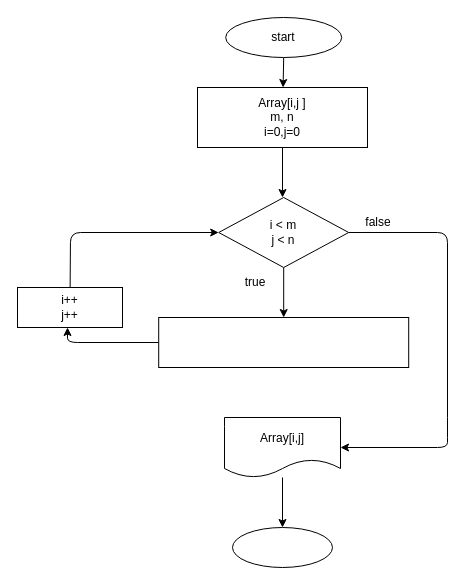
This 473x585 diagram has some shape labels left out. Each missing label, with the centre of its shape:
"Arrai[i,j]=randomNextDouble() * 10" belongs at pixel 283 342.
"end" belongs at pixel 282 547.
